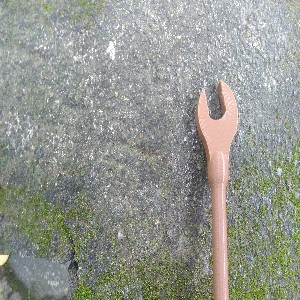spanner: (196, 81, 239, 300)
